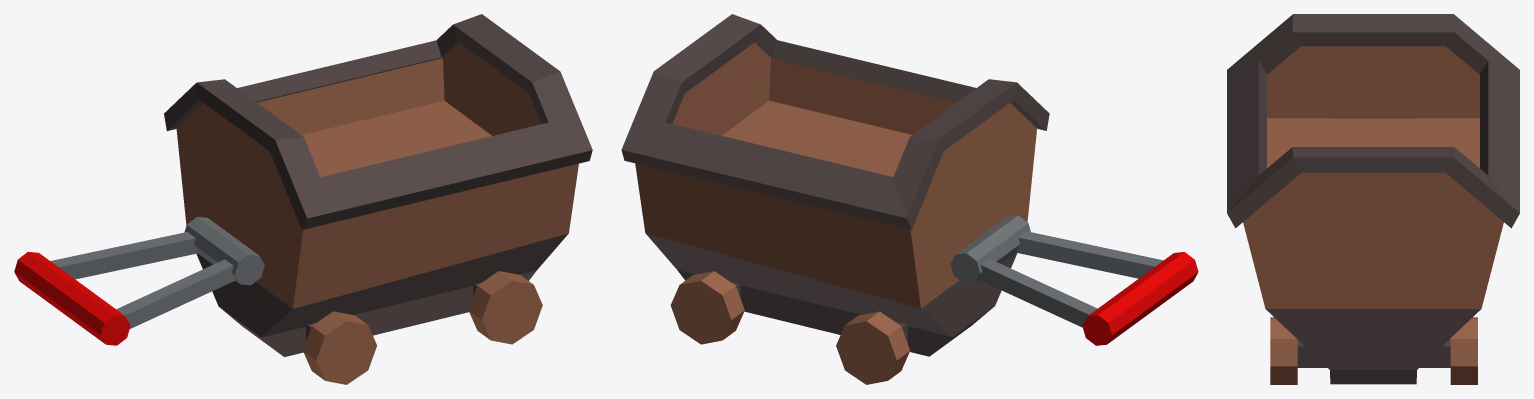
The model's file is CopperMetalMechSmallMinecartwithHandle1.fbx.
The picture shows the model from 3 angles, left to right: view 1: azimuth 30°, elevation 25°; view 2: azimuth 150°, elevation 25°; view 3: azimuth 270°, elevation 25°; orthographic projection. The views are drawn at different scales.
Visible parts, largest first — view 1: RightSide, Front, UpperBase, Back, LeftSide, Handle, MinecartWheel1, MinecartWheel2, LowerBas, Strut1, Strut, Hinge; view 2: LeftSide, Front, UpperBase, Back, RightSide, Handle, MinecartWheel3, MinecartWheel4, LowerBas, Strut, Strut1, Hinge; view 3: Back, Front, UpperBase, RightSide, LeftSide, MinecartWheel4, MinecartWheel2, LowerBas, Axles.
Part boxes in pixels (box(x1,y1,x2,y2)): RightSide: box(293, 122, 592, 308); Front: box(164, 79, 320, 308); UpperBase: box(196, 101, 568, 337); Back: box(436, 14, 592, 149); LeftSide: box(168, 40, 444, 134); Handle: box(14, 251, 130, 345); MinecartWheel1: box(303, 311, 377, 384); MinecartWheel2: box(468, 271, 542, 344); LowerBas: box(219, 270, 536, 356); Strut1: box(50, 232, 198, 279); Strut: box(116, 259, 235, 328); Hinge: box(184, 216, 264, 285); LeftSide: box(621, 122, 920, 308); Front: box(893, 79, 1049, 308); UpperBase: box(646, 100, 1017, 336); Back: box(621, 14, 777, 149); RightSide: box(769, 40, 1045, 134); Handle: box(1082, 252, 1198, 345); MinecartWheel3: box(836, 311, 910, 384); MinecartWheel4: box(670, 271, 744, 344); LowerBas: box(677, 270, 992, 356); Strut: box(1015, 231, 1163, 278); Strut1: box(978, 258, 1097, 327); Hinge: box(950, 215, 1030, 283); Back: box(1227, 147, 1519, 308); Front: box(1227, 14, 1519, 118); UpperBase: box(1266, 118, 1480, 369); RightSide: box(1227, 61, 1266, 212); LeftSide: box(1480, 61, 1519, 212); MinecartWheel4: box(1450, 317, 1477, 384); MinecartWheel2: box(1270, 317, 1297, 384); LowerBas: box(1330, 370, 1416, 384); Axles: box(1297, 338, 1450, 367).
Size of the model in its own units: 310 by 161 by 166.
